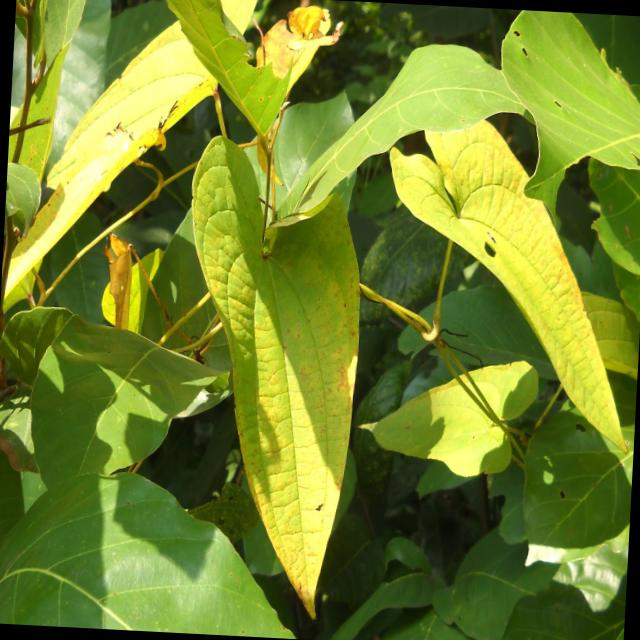Yam: (122, 118, 370, 555), (382, 127, 640, 469), (19, 282, 242, 622), (297, 36, 621, 240), (371, 348, 607, 622)
